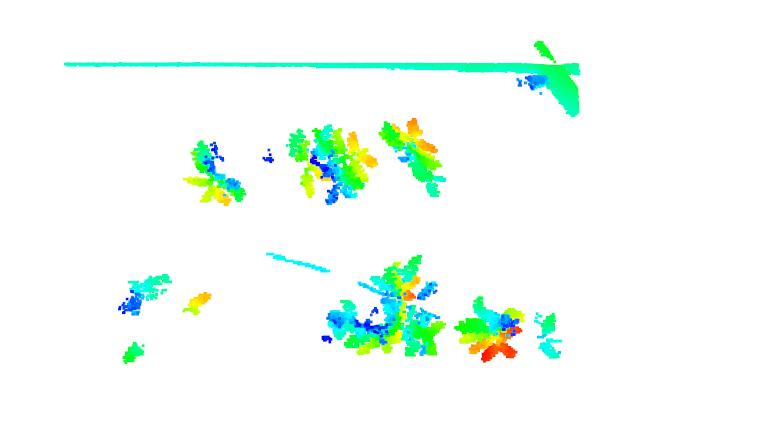chickpea: (97, 270, 214, 372), (355, 249, 446, 365), (457, 292, 563, 376), (370, 115, 455, 198), (183, 139, 261, 212), (310, 296, 397, 360), (323, 125, 385, 204), (286, 124, 331, 198)
